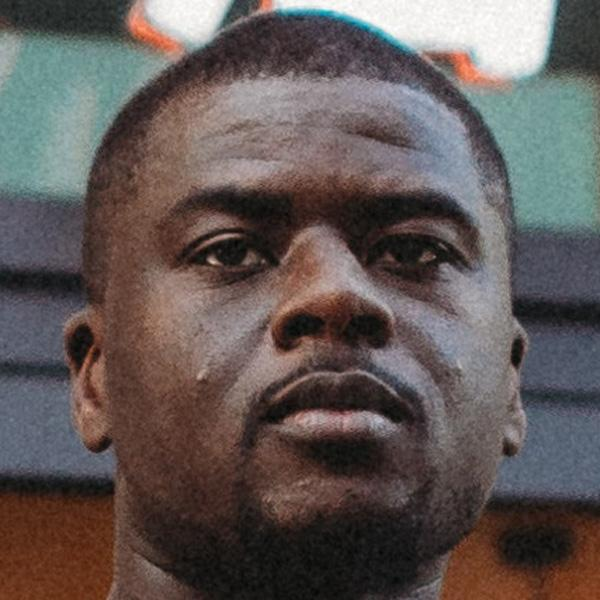Eyes: (173, 224, 286, 285), (357, 226, 470, 283)
